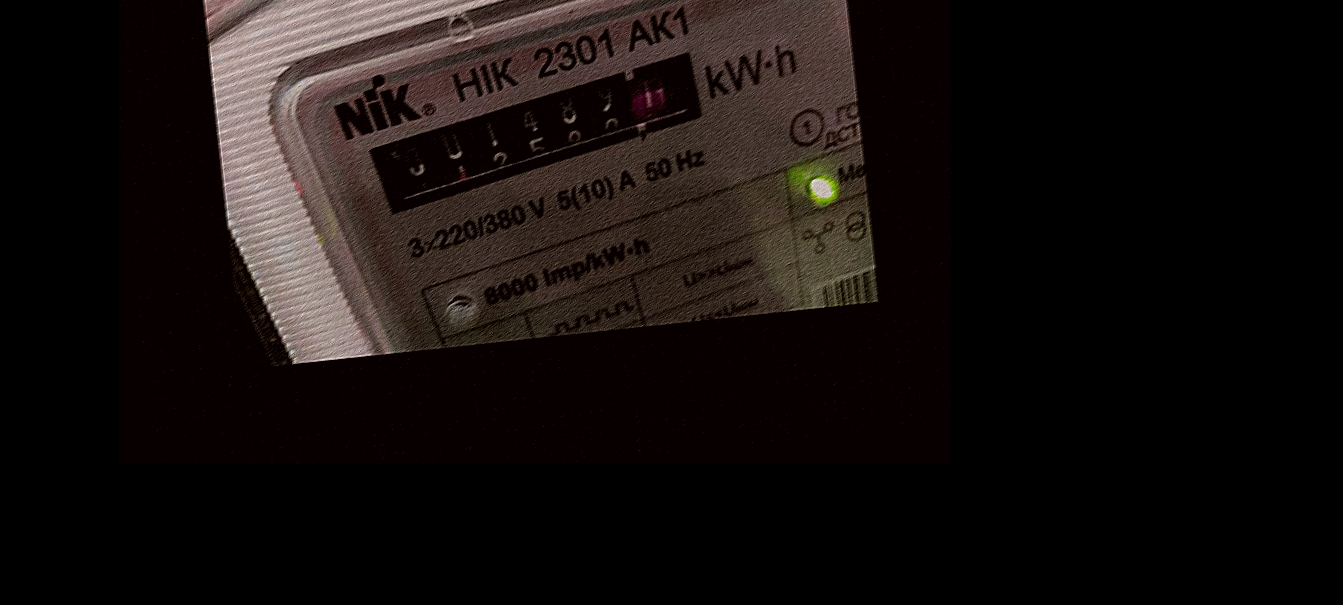0: (437, 123, 467, 161), (401, 141, 428, 178)
1: (636, 70, 658, 110), (480, 115, 504, 148)
4: (517, 101, 542, 134)
8: (556, 88, 581, 126)
9: (594, 78, 617, 112)
screen: (350, 37, 739, 227)
